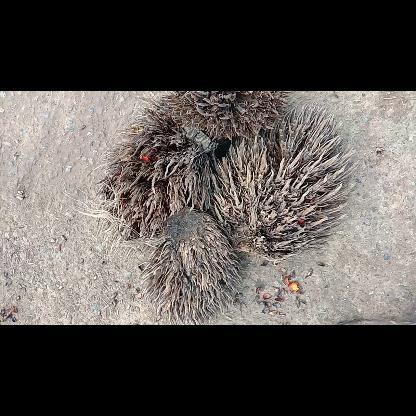Janjang kosong: (214, 105, 350, 261), (82, 108, 218, 258), (141, 206, 241, 324), (161, 91, 289, 138)
